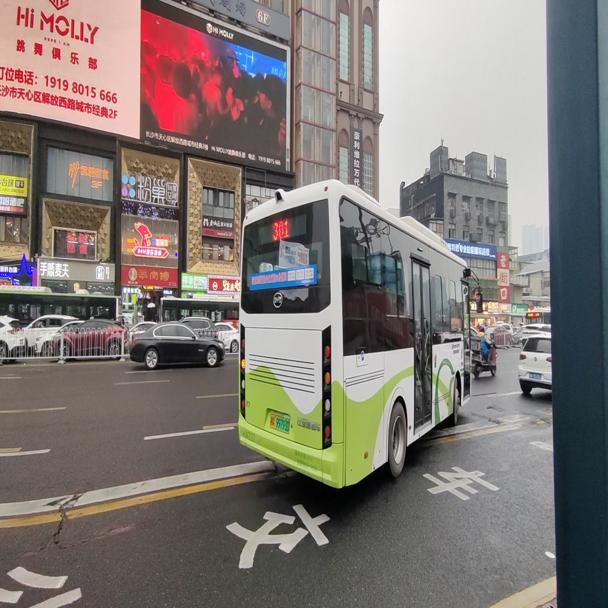bus: (236, 176, 483, 490), (525, 309, 551, 328)
screen: (269, 218, 289, 239)
